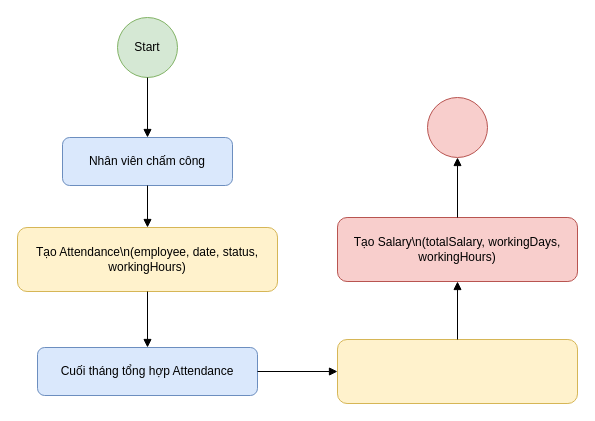
Image size: 595x421. Some labels were removed from this diagram. Each missing label, with the centre of its shape:
"End" belongs at point (457, 127).
"Tính lương theo salaryType\n(base + bonus - deduction)" belongs at point (457, 371).
